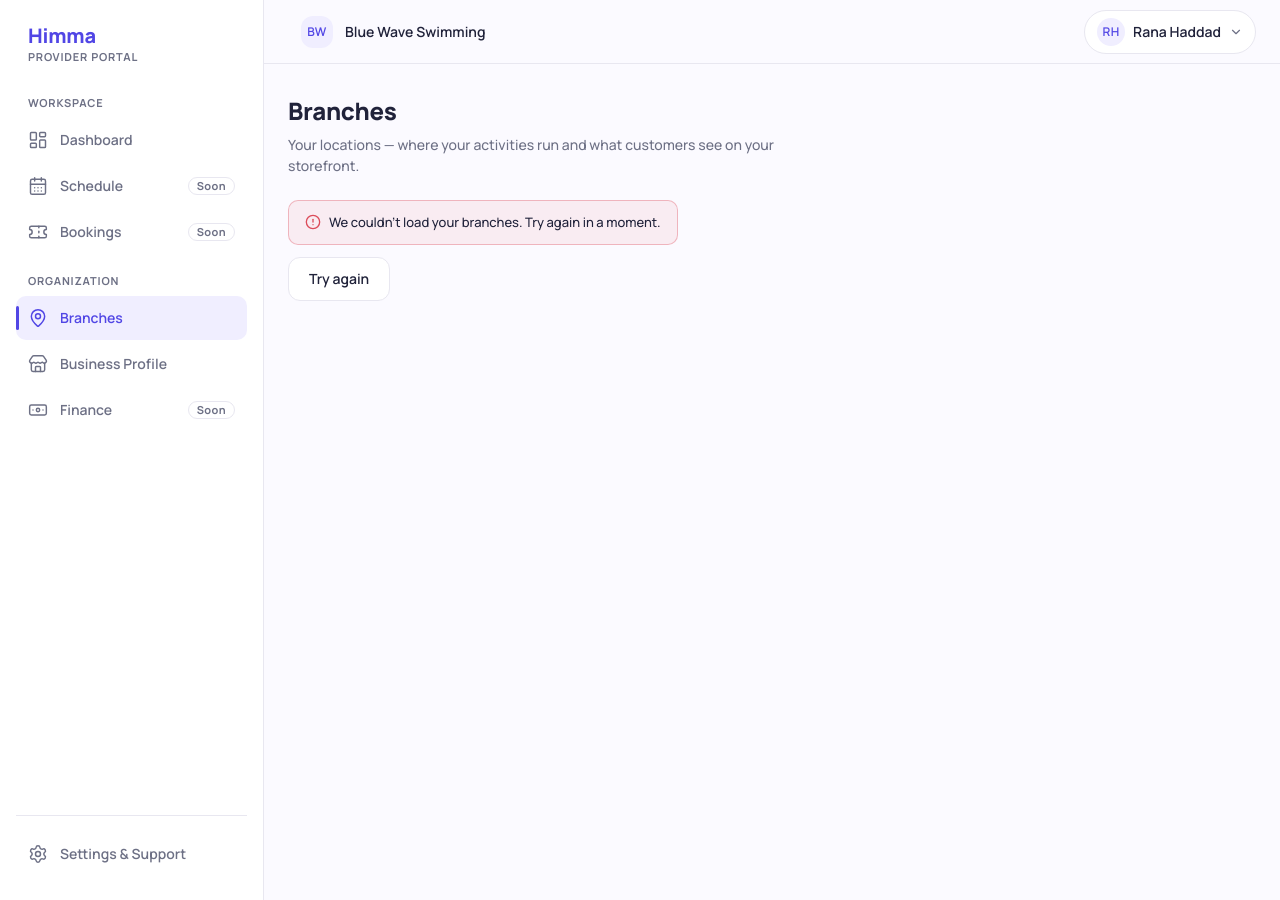
Test: branch list (W2-5) › a transient load failure renders the error state and retry recovers
expect the text "We couldn’t load your branches. Try again in a moment." is shown: met, box 329,213 -> 661,232
Click the button "Try again" at point(339, 279), box 288,257 -> 390,301
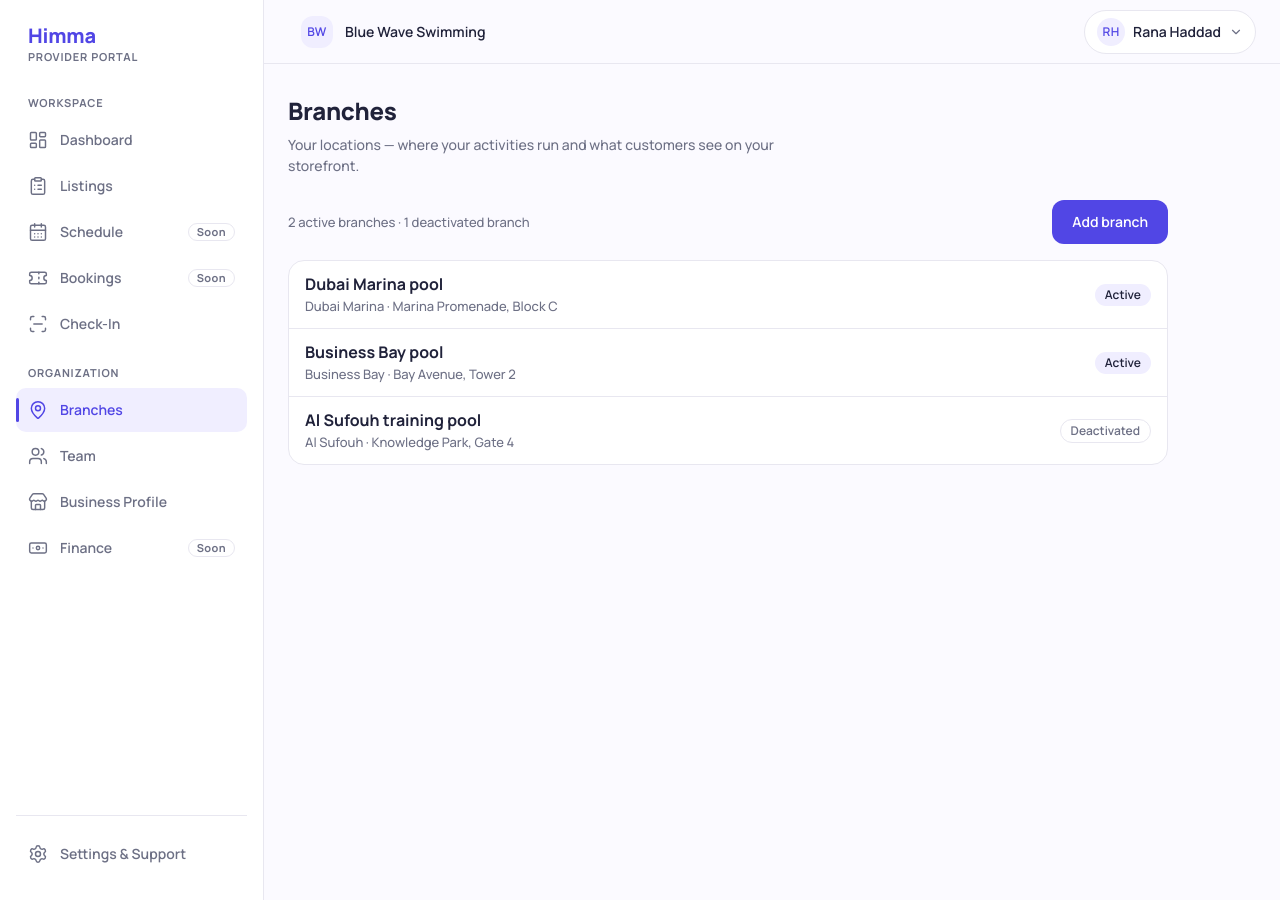
expect the list named "Branches" is shown: met, box 288,260 -> 1168,465
